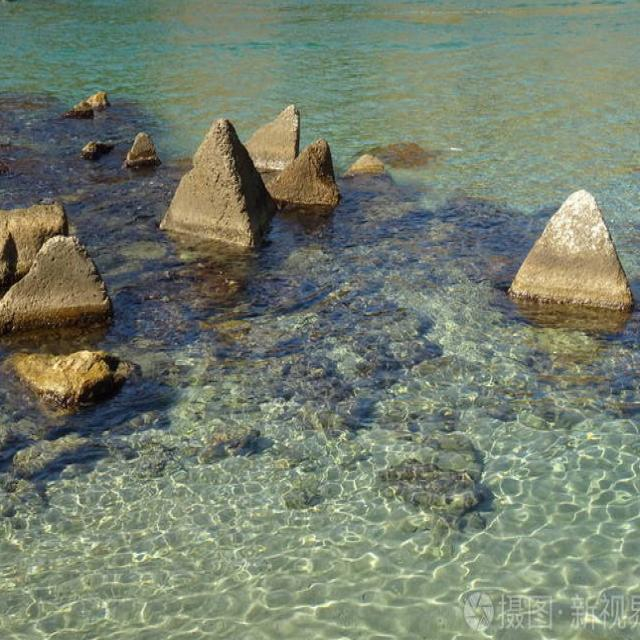reef: (74, 66, 371, 226)
